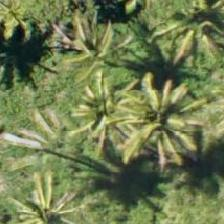coconut_tree: (122, 76, 212, 166), (43, 71, 133, 161), (46, 0, 136, 83), (0, 165, 67, 223), (173, 0, 223, 71)
